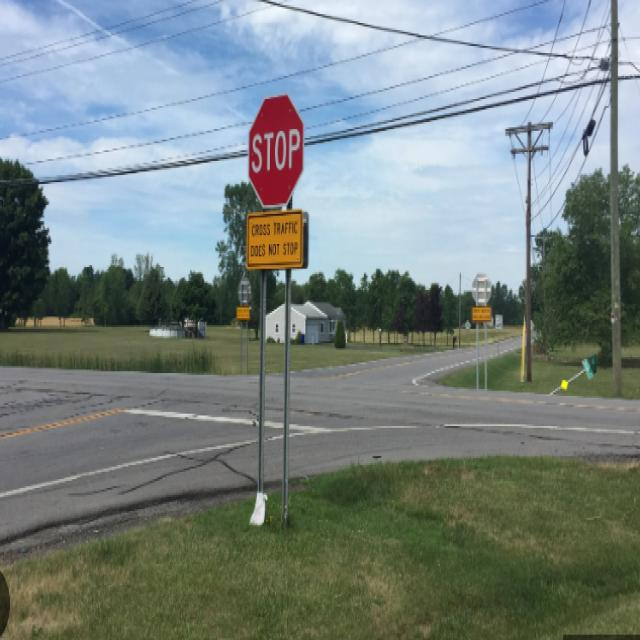stop-sign: (247, 94, 314, 196)
